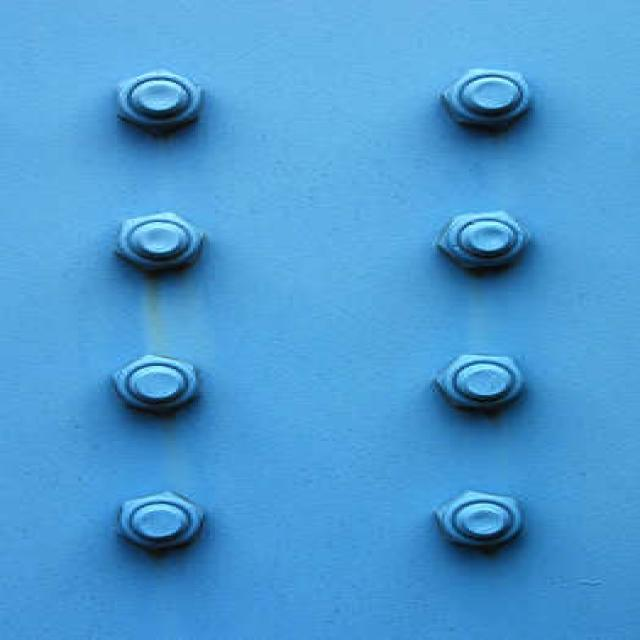bolt nut: (432, 205, 535, 277), (108, 63, 205, 136), (430, 486, 530, 554), (108, 350, 205, 420), (105, 490, 208, 554), (110, 210, 208, 276), (438, 65, 538, 128), (430, 351, 528, 415)
